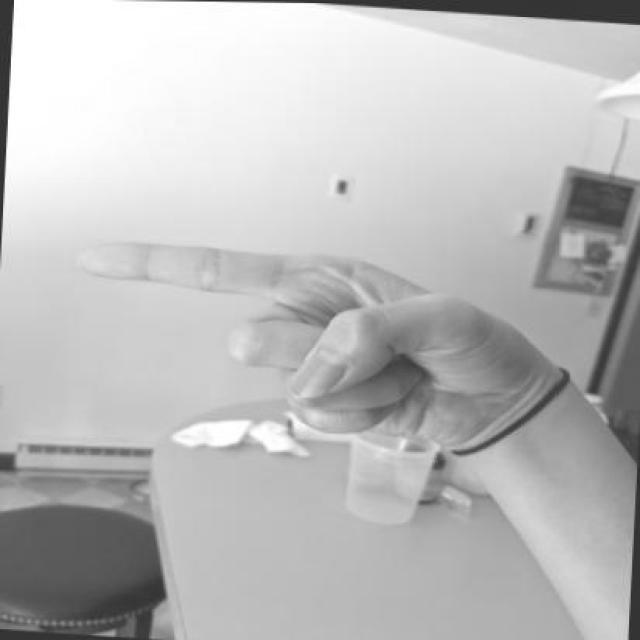G: (64, 230, 558, 460)
